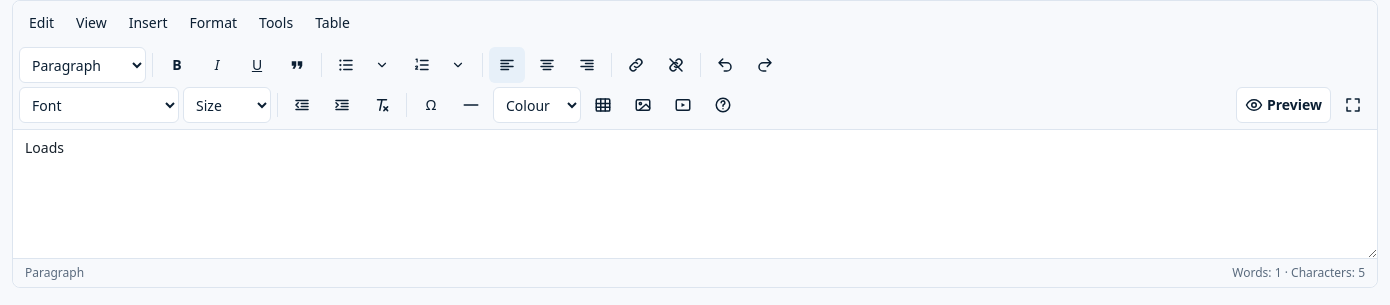
Test: MarkdownTextarea blocks › sets headings from the block format menu, which follows the cursor
The image size is (1390, 305).
Select "Heading 2" in the dropdown named "Block format" at [82, 65], box [19,47,146,83]
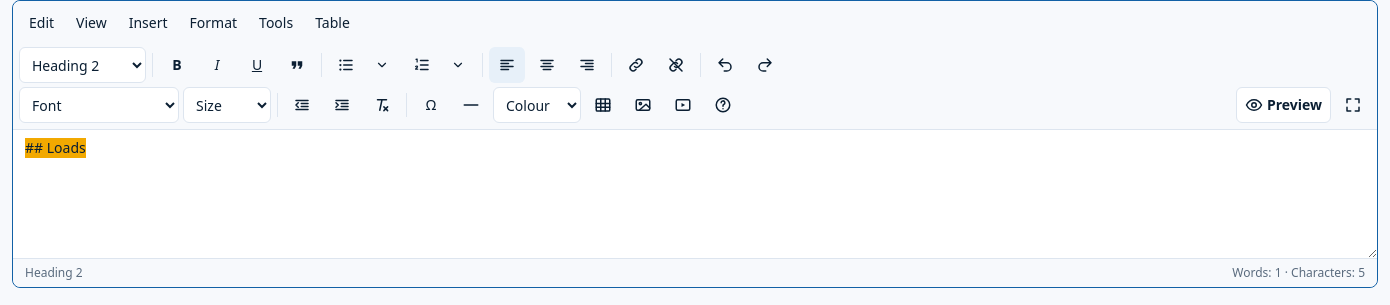
Now the text box named "Body" holds "## Loads", box [13,130,1377,258]
